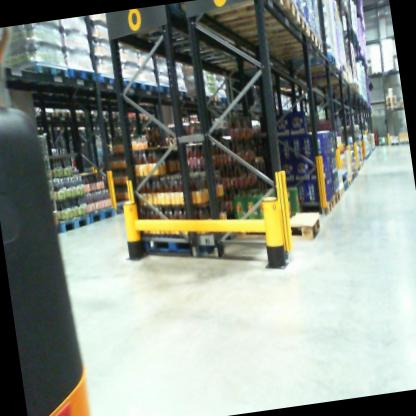pallet: (133, 215, 240, 269), (202, 0, 303, 47), (231, 199, 325, 249), (240, 8, 312, 49), (179, 0, 285, 27), (261, 36, 325, 71), (20, 58, 69, 93), (291, 51, 342, 77), (259, 27, 317, 48), (55, 212, 92, 241), (63, 62, 98, 91), (88, 203, 122, 230), (92, 67, 119, 88), (117, 71, 142, 93), (31, 106, 59, 124), (315, 198, 336, 218), (74, 103, 99, 119), (53, 104, 72, 123), (157, 80, 177, 97), (140, 75, 158, 92), (329, 188, 341, 208), (129, 112, 146, 123), (220, 95, 235, 106), (335, 181, 345, 197), (342, 176, 353, 190), (341, 177, 351, 192), (211, 92, 220, 103)
pallet_truck: (0, 25, 92, 416)
